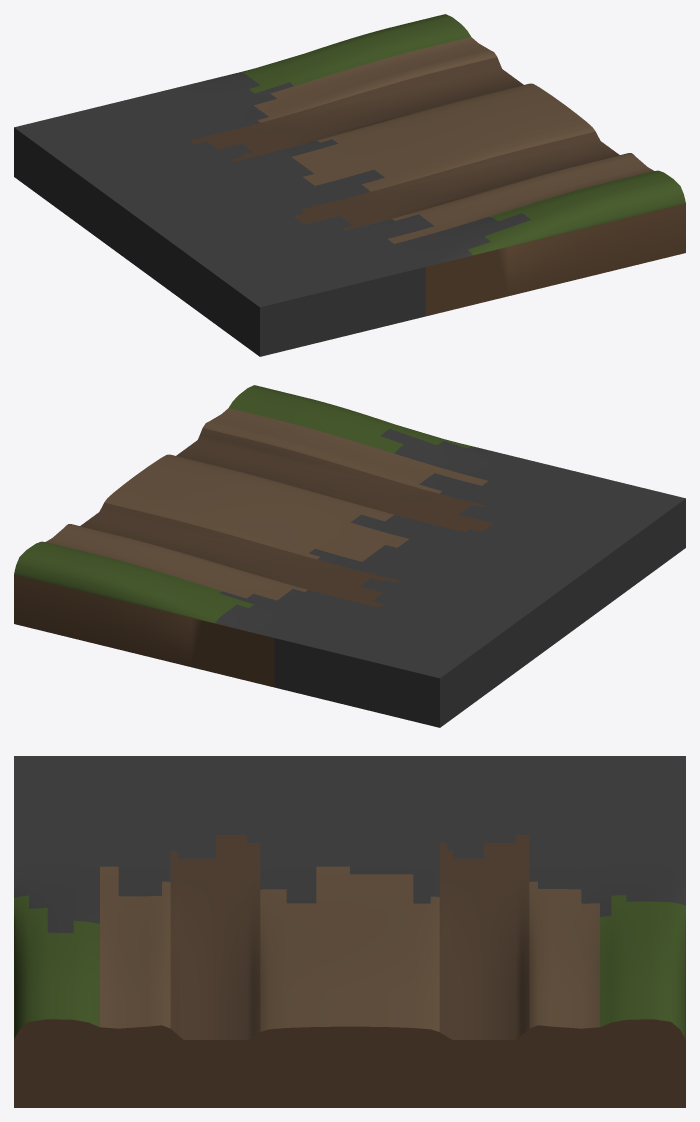
3 views of the same model, one above another, from view 1: azimuth 30°, elevation 25°; view 2: azimuth 150°, elevation 25°; view 3: azimuth 270°, elevation 25° (orthographic). The views are drawn at different scales.
Parts seen in each view (by area): view 1: a1u; view 2: a1u; view 3: a1u.
Boxes of the visible parts, left/top/right/bottom form: a1u: left=14, top=14, right=685, bottom=356; a1u: left=14, top=385, right=685, bottom=727; a1u: left=14, top=756, right=685, bottom=1107.
Size of the model in its own units: 9 by 1.31 by 9.
